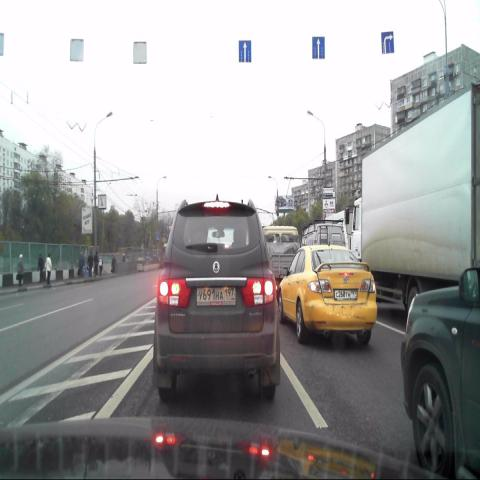5_15_2: (238, 39, 251, 64)
